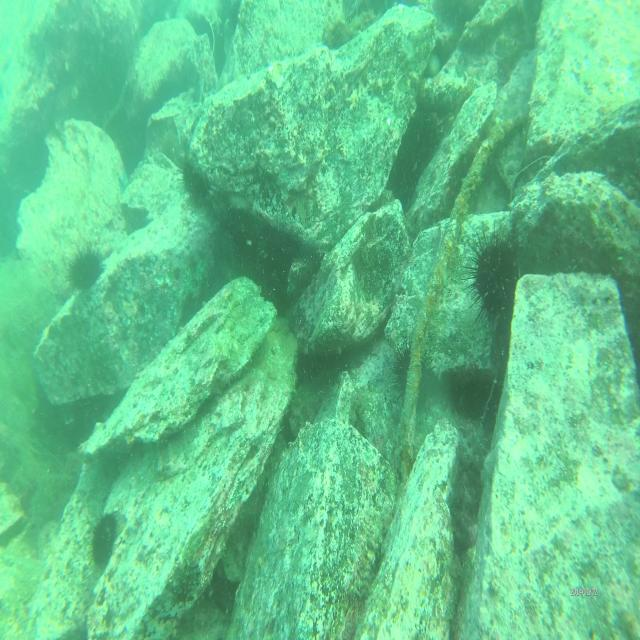echinus: (463, 220, 524, 334), (86, 509, 120, 575), (67, 244, 106, 298), (175, 156, 211, 211)
